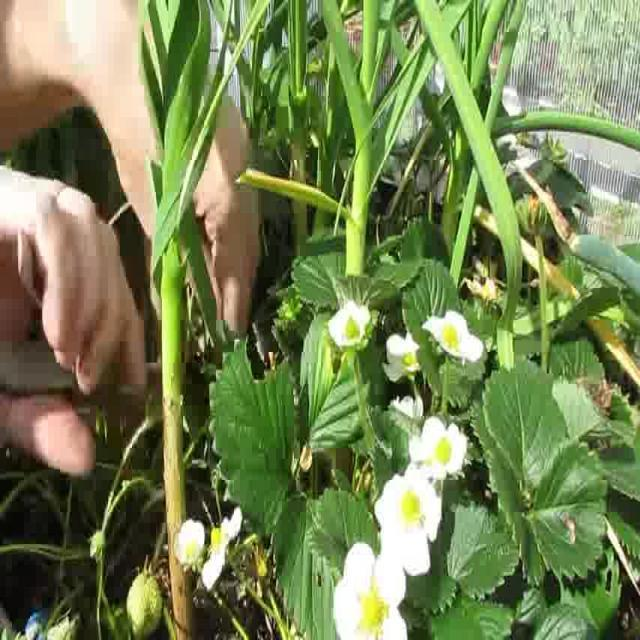Fruta sana: (125, 571, 163, 640), (346, 318, 362, 340)
